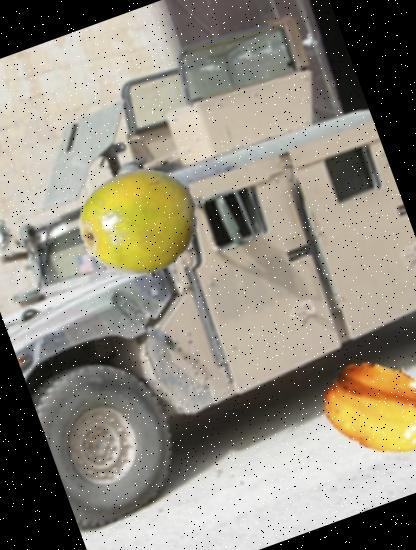Carambula: (305, 326, 416, 487)
Maracuja: (63, 145, 217, 299)
